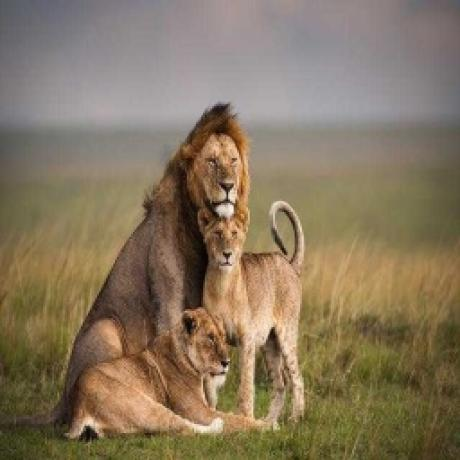Lion: (63, 102, 254, 364), (57, 304, 270, 437), (193, 200, 311, 422)
